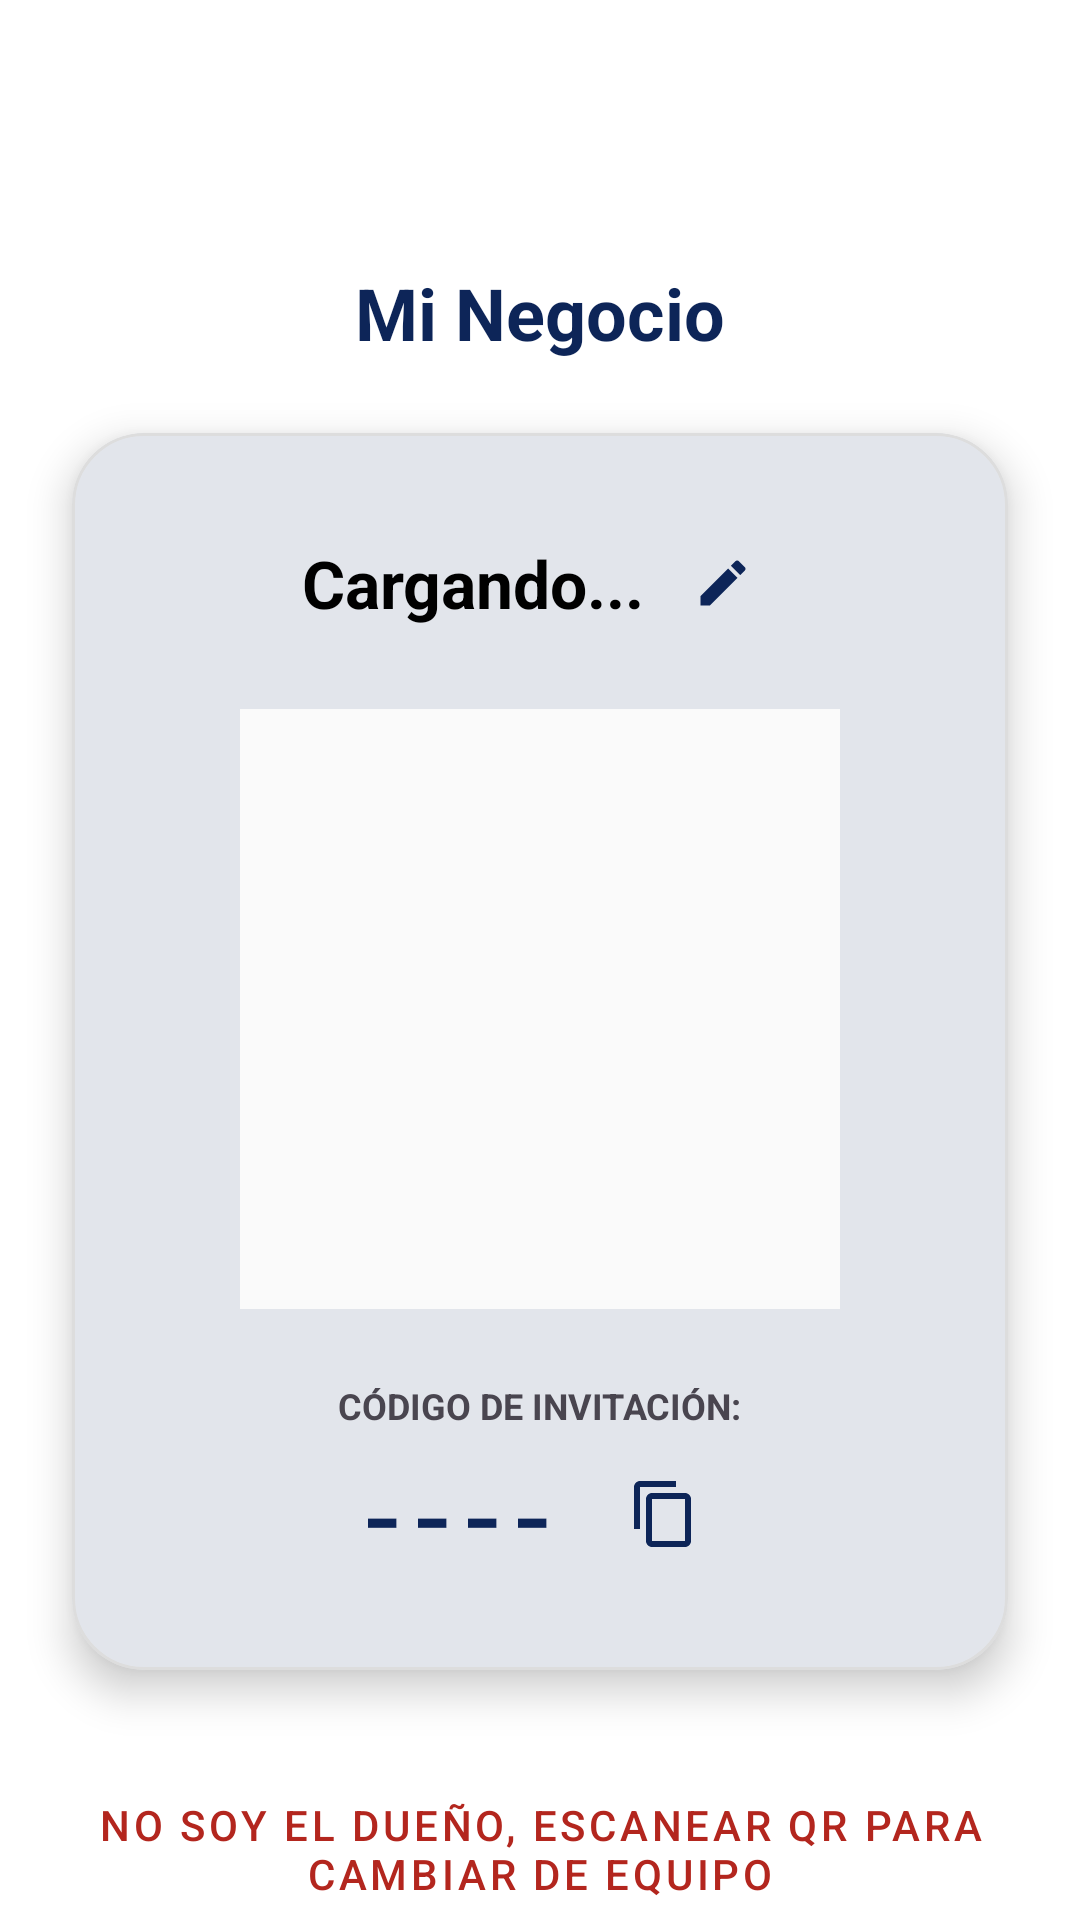

Locate icon controls on the screen. Image size 1080×1920, boxes as {"x1": x1, "y1": y1, "x2": x2, "y2": y2}.
edit: {"x1": 700, "y1": 560, "x2": 746, "y2": 606}
